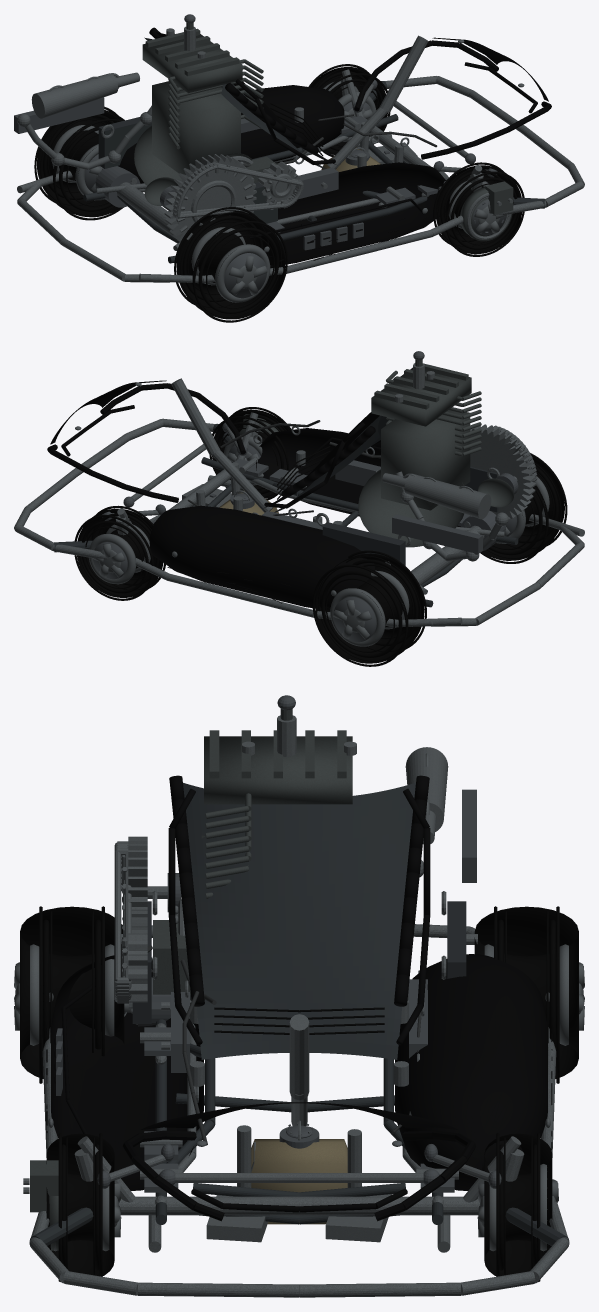
The model's file is SM_PlayerKartChassis.fbx.
3 views of the same model, one above another, from view 1: azimuth 30°, elevation 25°; view 2: azimuth 150°, elevation 25°; view 3: azimuth 270°, elevation 25° (orthographic). The views are drawn at different scales.
Parts seen in each view (by area): view 1: SM_PlayerKartChassis; view 2: SM_PlayerKartChassis; view 3: SM_PlayerKartChassis.
Part boxes in pixels (<box>): SM_PlayerKartChassis: <box>14,14,584,322</box>; SM_PlayerKartChassis: <box>14,351,584,666</box>; SM_PlayerKartChassis: <box>14,695,584,1297</box>.
Bounding box in the file's own units: 209 × 134 × 104.
